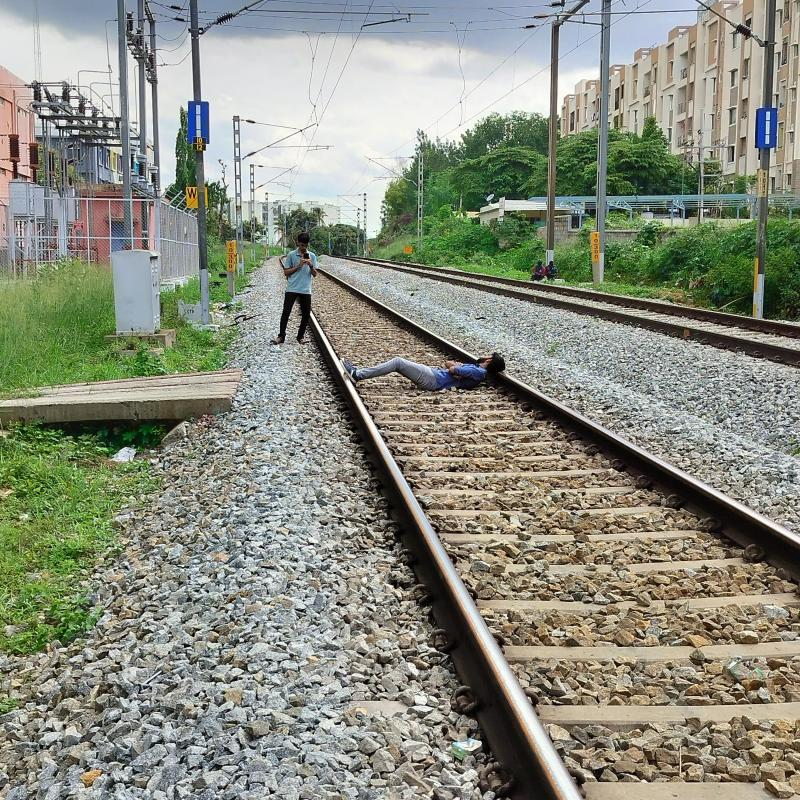sleeping: (334, 347, 518, 402)
